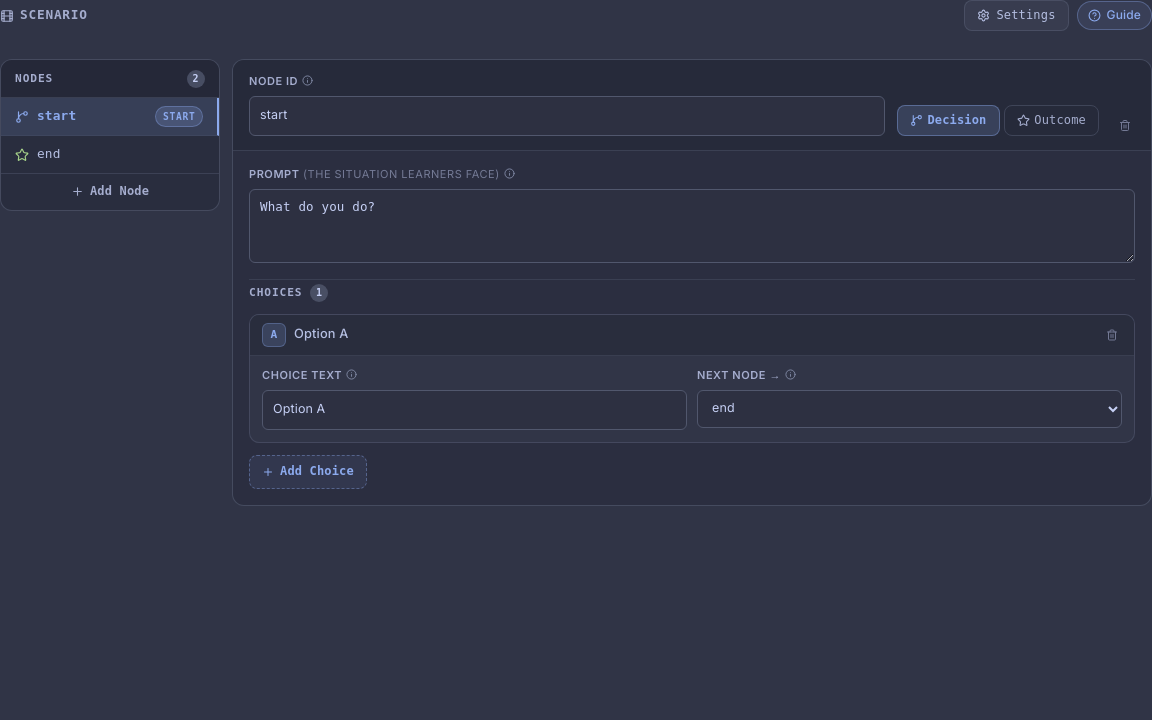
VisualFormEditor › renders scenario form editor for scenario type
This screenshot has width=1152, height=720.
expect the element with test id "sc-node-list" is shown: met, box [1,98,219,173]
expect the button with test id "sc-node-item-start" is shown: met, box [1,98,219,136]
# Test guide button
Click the button with test id "scenario-editor-help-btn" at (1114, 16), box [1076,1,1151,30]
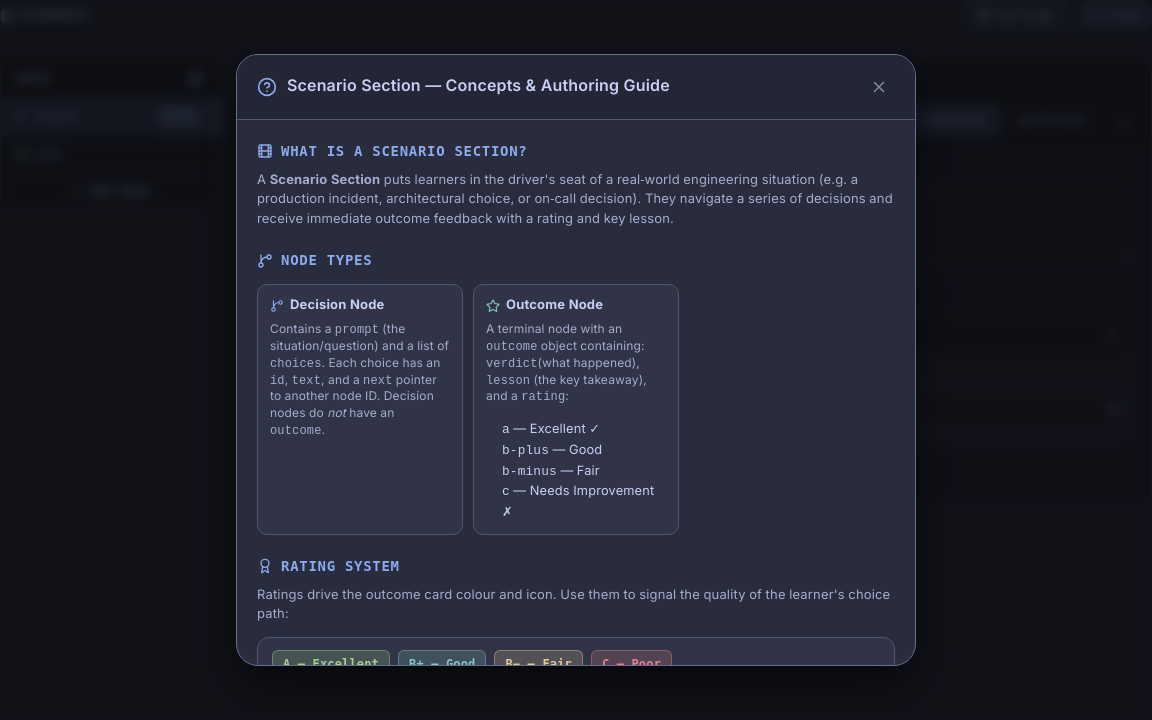
expect the dialog with test id "sc-help-modal" is shown: met, box [236,54,916,666]
